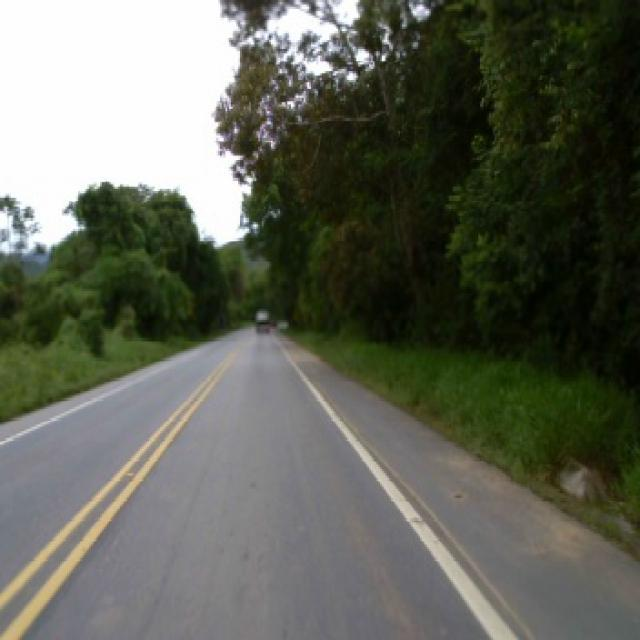Poth-hole: (124, 468, 134, 476)
